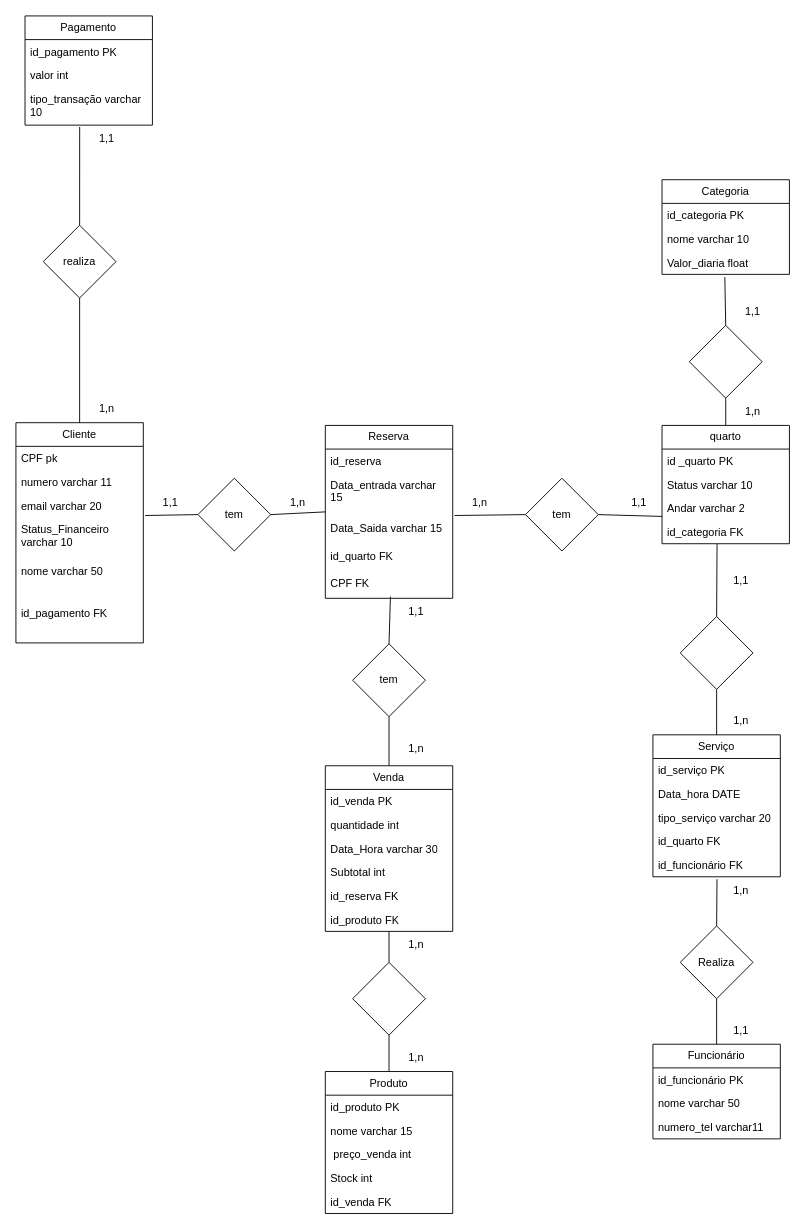
Image size: 805x1232. Some labels were removed from this diagram. The shapes that lost their labels are listed below. From the top down, each one's centre as x and y in pixels, then its label:
the point at 725,361: pertence
the point at 716,652: realizar
the point at 388,998: estar
